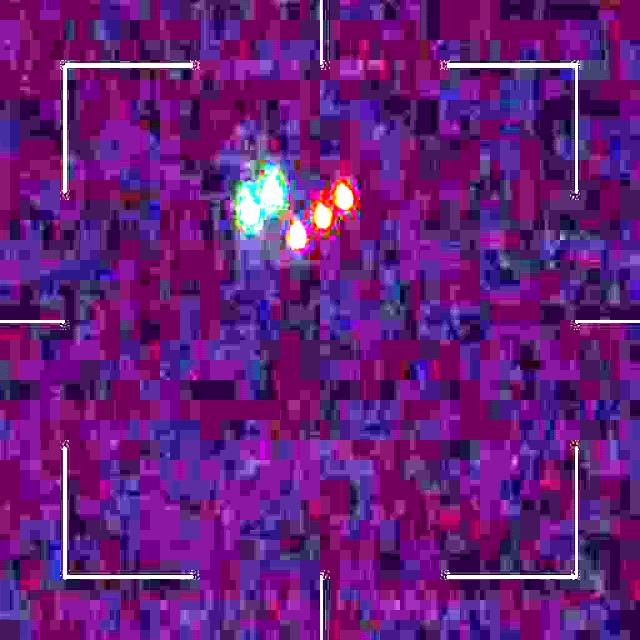bird: (239, 174, 355, 248)
